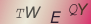E: (49, 10, 63, 24)
Q: (68, 3, 79, 16)
T: (15, 8, 26, 19)
W: (24, 5, 42, 19)
Y: (77, 2, 89, 15)
